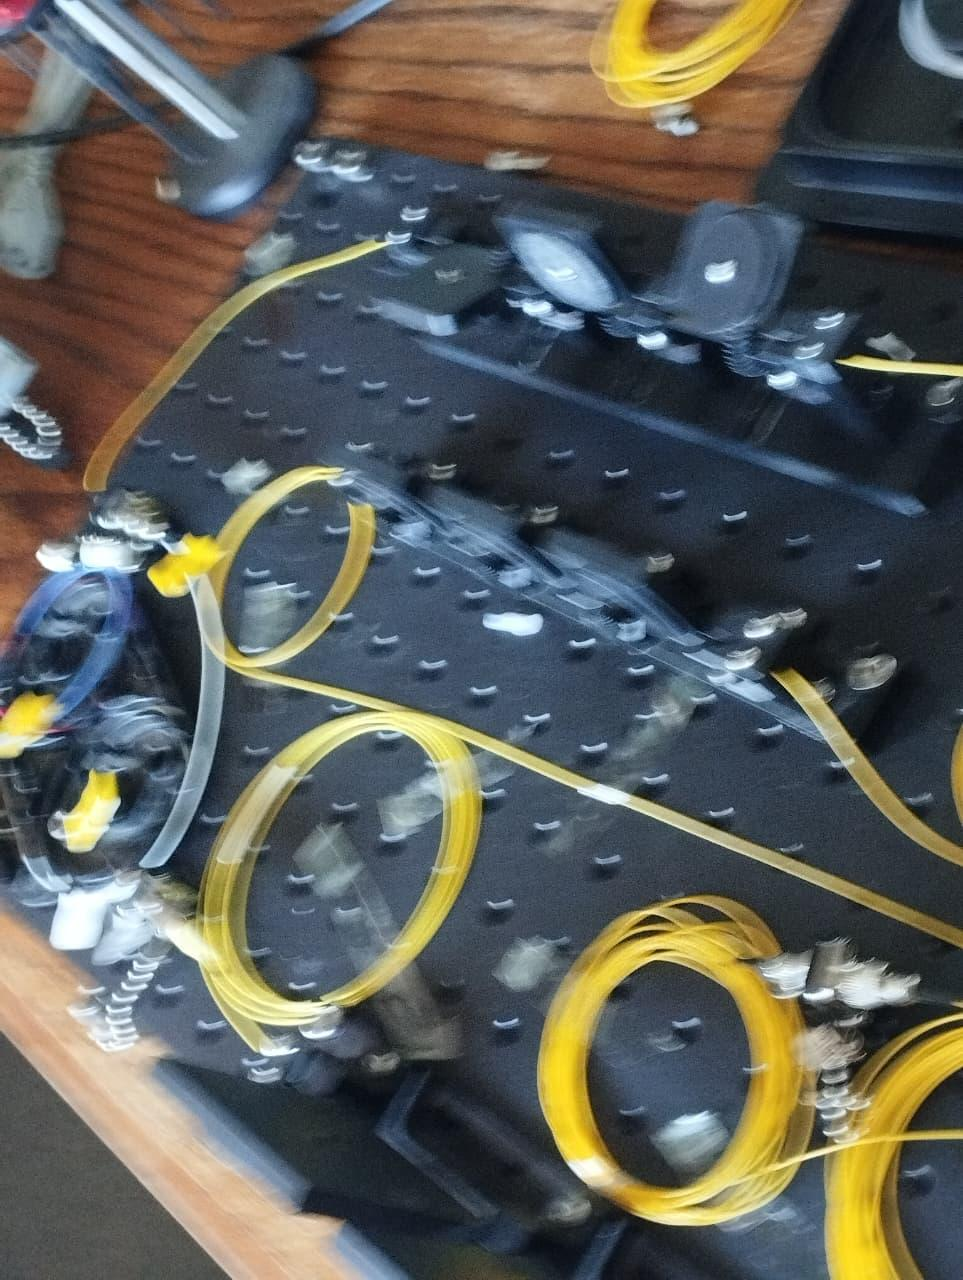fiber_cable: (499, 865, 821, 1211), (205, 709, 507, 1055), (808, 988, 963, 1280)
paddle_polarization_controller: (335, 452, 963, 789), (385, 203, 963, 537), (140, 1017, 725, 1280)
